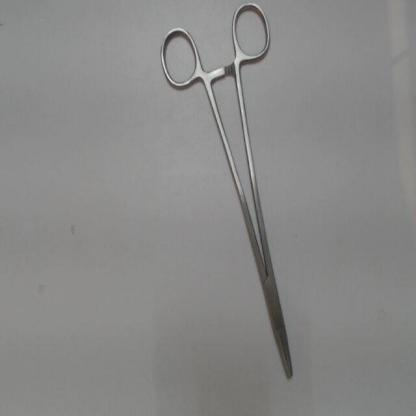8 Mayo Needle Holder: (153, 0, 303, 388)
